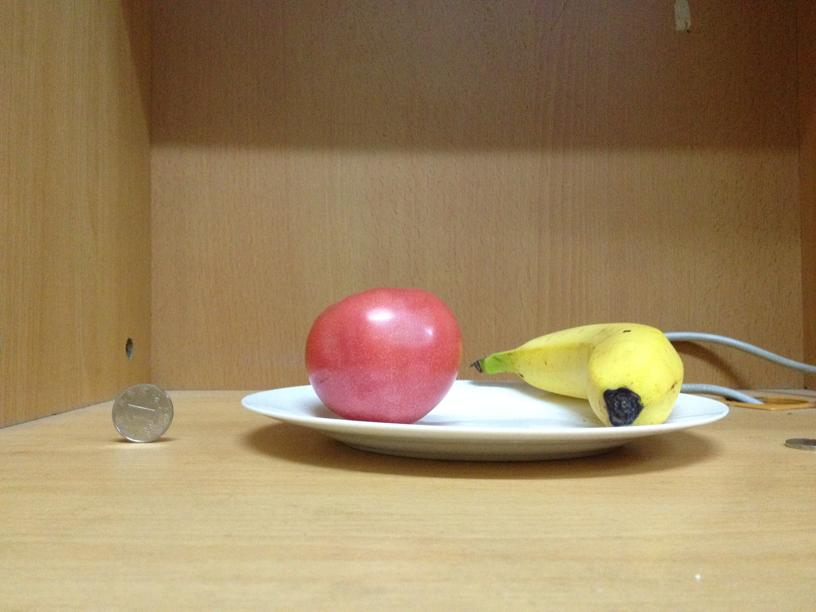banana: (491, 326, 682, 420)
coin: (112, 380, 172, 442)
tomato: (308, 286, 463, 420)
